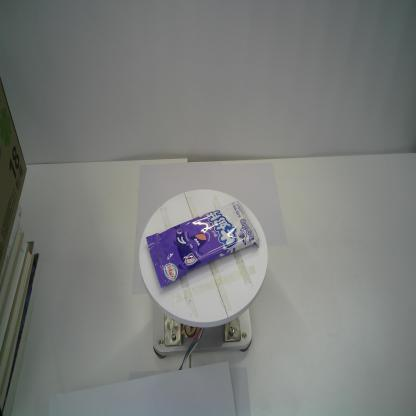Candy: (146, 200, 259, 289)
